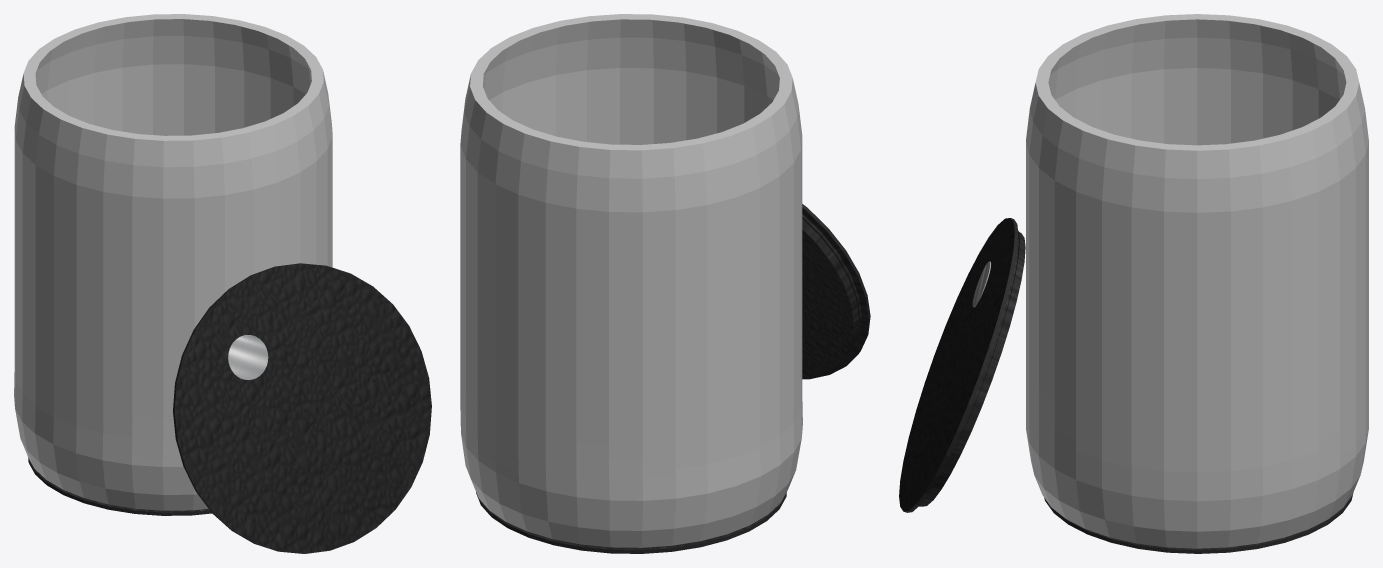
The model's file is BarrelWithBothLid(Plastic).fbx.
The picture shows the model from 3 angles, left to right: view 1: azimuth 30°, elevation 25°; view 2: azimuth 150°, elevation 25°; view 3: azimuth 270°, elevation 25°; orthographic projection. The views are drawn at different scales.
Parts seen in each view (by area): view 1: PlasticBarrel(withoutLid); view 2: PlasticBarrel(withoutLid); view 3: PlasticBarrel(withoutLid).
Boxes of the visible parts, x1,y1,x2,y2 form: PlasticBarrel(withoutLid): [14, 14, 431, 553]; PlasticBarrel(withoutLid): [460, 14, 870, 553]; PlasticBarrel(withoutLid): [899, 14, 1368, 553].
Bounding box in the file's own units: 449 × 573 × 601.
